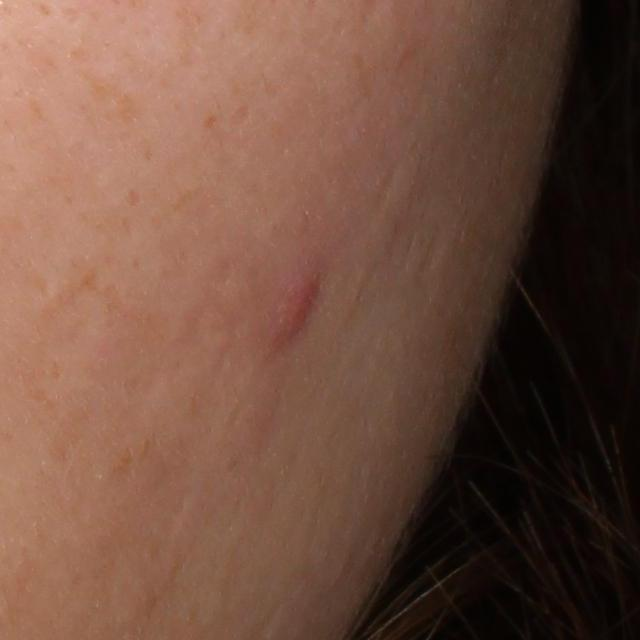papule: (271, 277, 317, 355)
